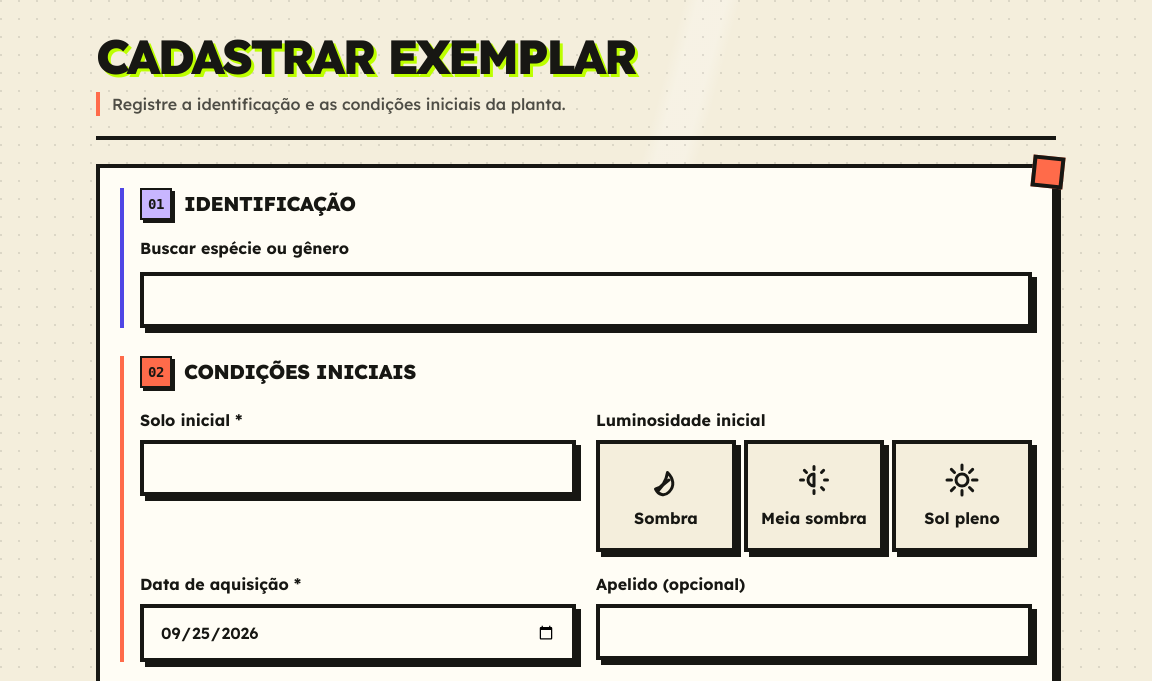
Test: SpecimenCreatePage › searches and keeps a single selected taxonomy
Type "Monstera" into the field labelled "Buscar espécie ou gênero" at (586, 300), box [140,272,1032,328]
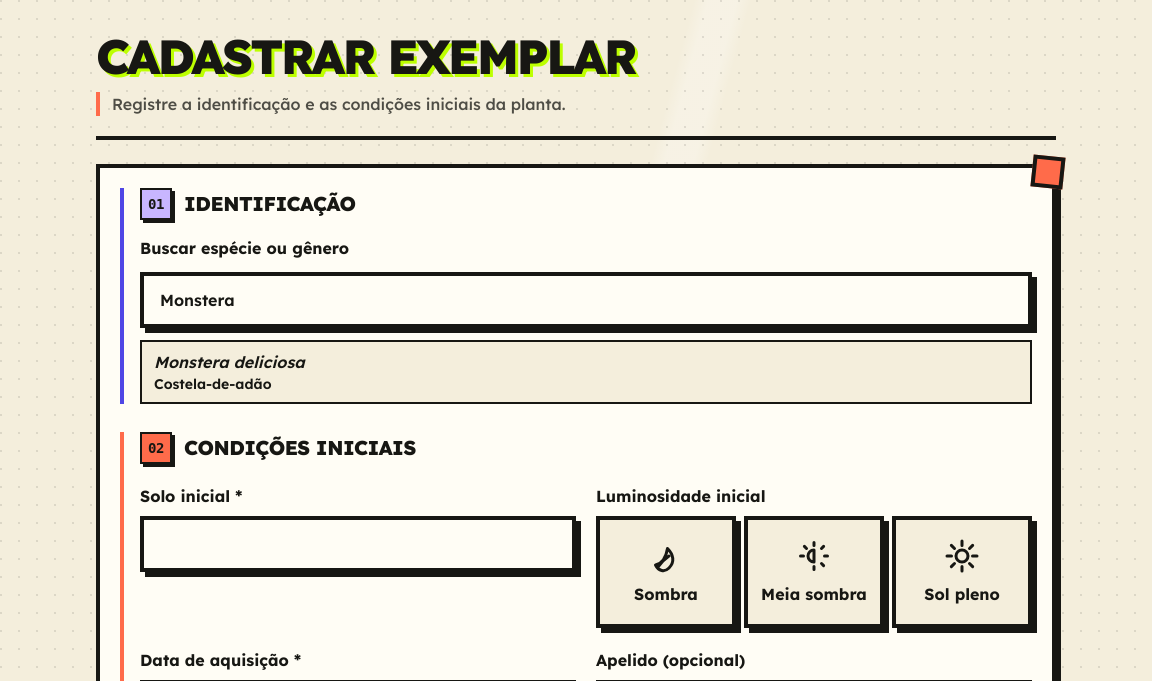
Click the option with aria-label "selecionar monstera deliciosa" at (229, 362), box [140,340,1032,404]
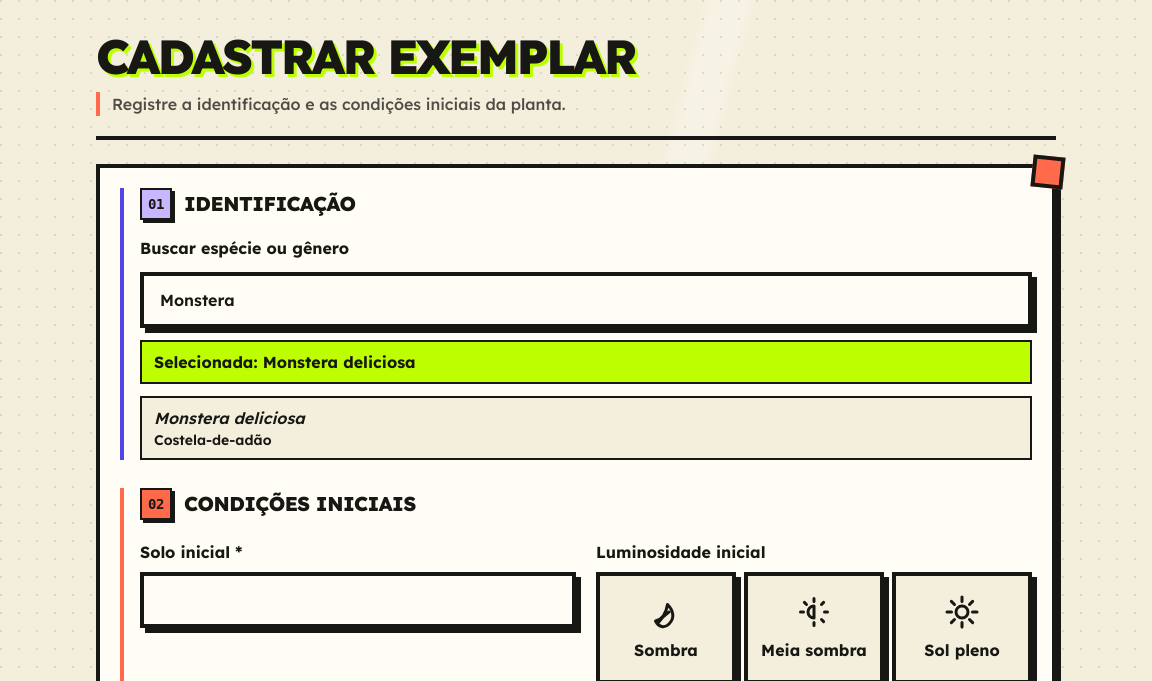
Expected: the text "Selecionada: Monstera deliciosa" is shown, [140,340,1032,384]
